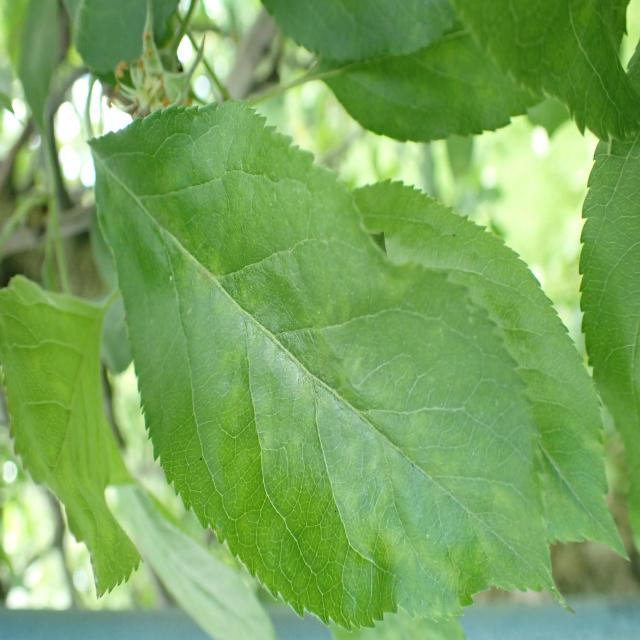scab: (107, 160, 505, 590)
